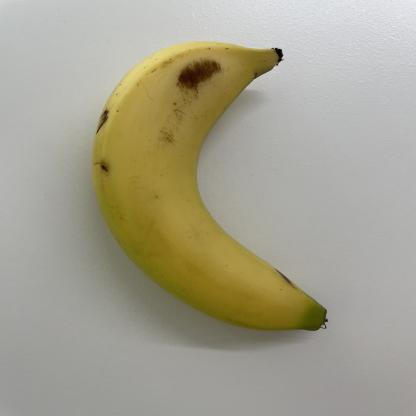banana: (86, 35, 340, 341)
